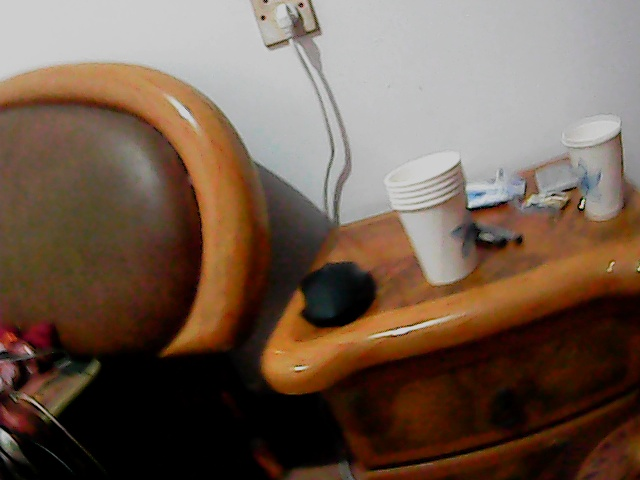cup: (383, 151, 487, 288)
mouse: (293, 260, 380, 326)
